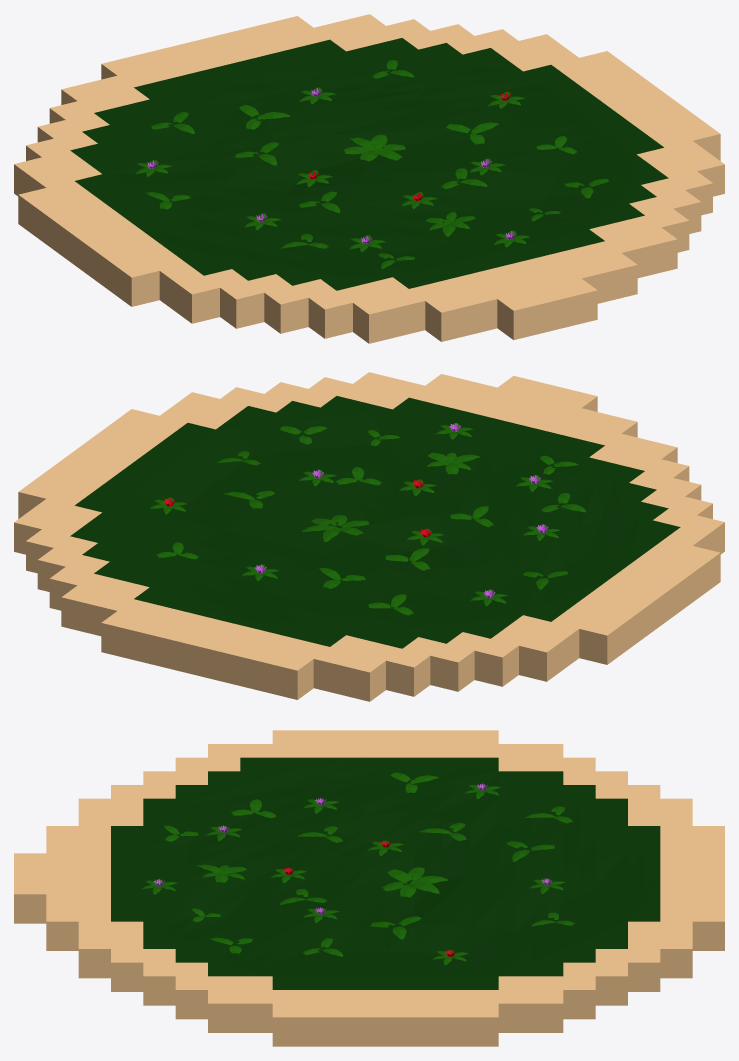
The model's file is Garden.fbx.
3 renders of one model, top to bottom at view 1: azimuth 30°, elevation 25°; view 2: azimuth 150°, elevation 25°; view 3: azimuth 270°, elevation 25°, orthographic.
Parts seen in each view (by area): view 1: Cube.002, Leaf, Flower2, Flower; view 2: Cube.002, Leaf, Flower2, Flower; view 3: Cube.002, Leaf, Flower2, Flower.
Boxes of the visible parts, box(x1,y1,x2,y2) form: Cube.002: box(14, 14, 724, 343); Leaf: box(145, 60, 609, 269); Flower2: box(135, 87, 529, 252); Flower: box(296, 91, 524, 208); Cube.002: box(14, 372, 724, 701); Leaf: box(156, 426, 586, 615); Flower2: box(242, 423, 560, 606); Flower: box(150, 479, 443, 545); Cube.002: box(14, 730, 724, 1046); Leaf: box(164, 772, 574, 956); Flower2: box(142, 783, 565, 922); Flower: box(271, 840, 468, 965).
Bounding box in the file's own units: 2100 × 126 × 2200.
